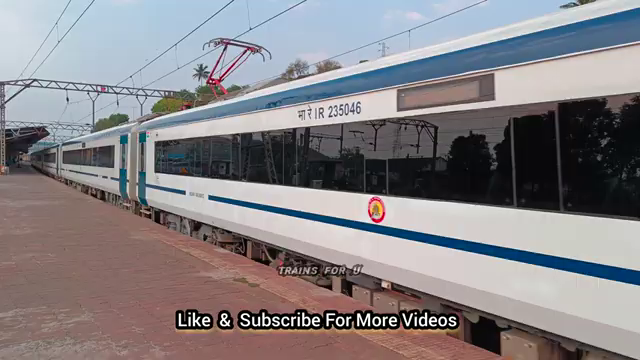Boogie: (320, 97, 370, 124)
